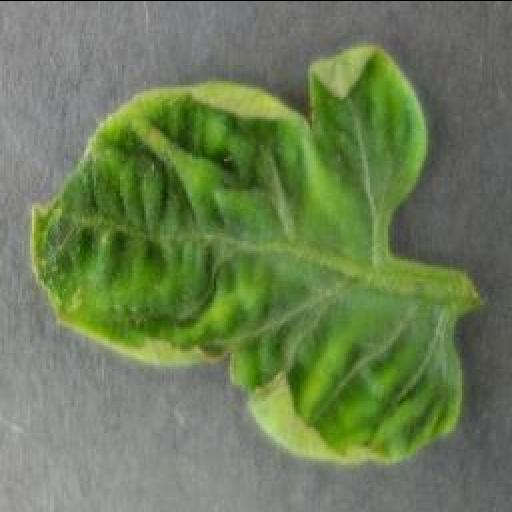disease_tomato: (28, 42, 462, 464)
